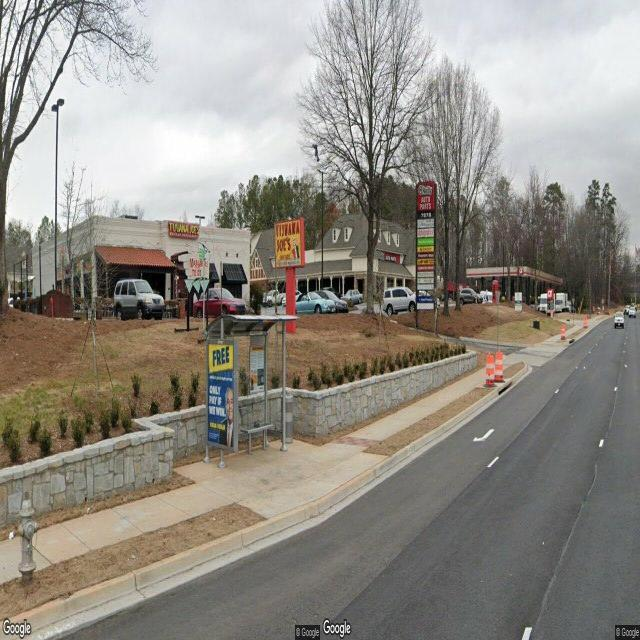seating: (241, 424, 271, 455)
shelter: (206, 311, 298, 468)
trash_can: (284, 404, 294, 448)
